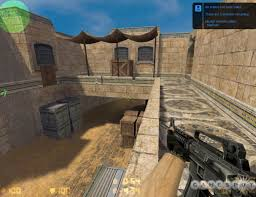gun: (158, 117, 255, 195)
